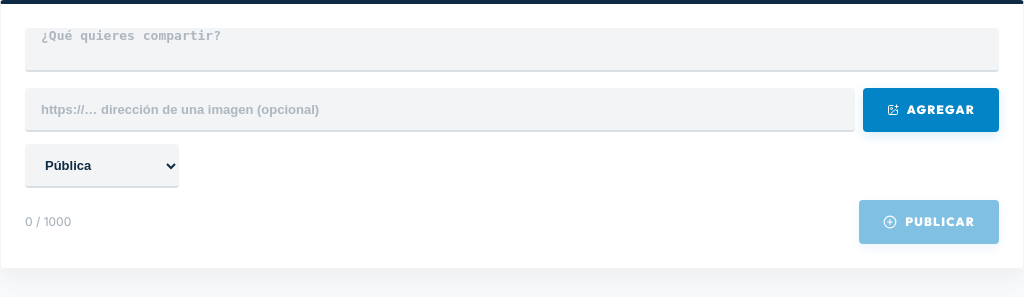
it: PostComposer › si el servidor rechaza (placas o VIN) muestra el motivo y conserva el texto
Type "Vendo ABC-1234" into the text box with test id "composer-text" at (512, 50), box [25,28,999,72]
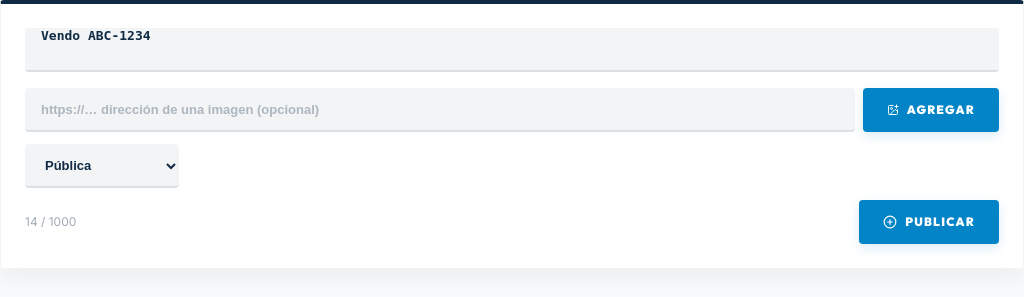
Click the button with test id "composer-submit" at (929, 222), box [859,200,999,244]
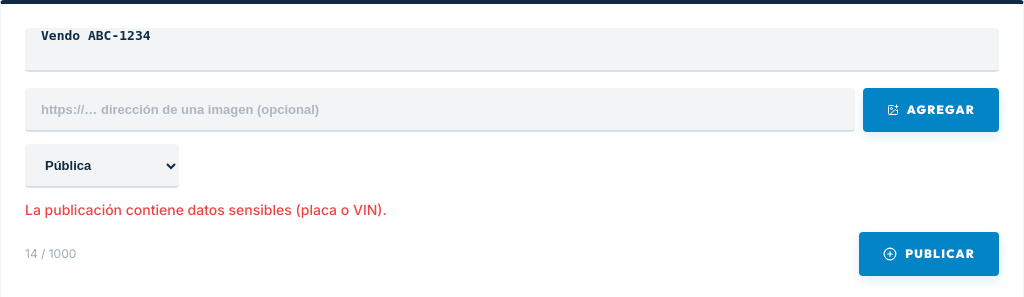
Expected: the message with test id "composer-error" shows "datos sensibles", [25,201,387,218]
